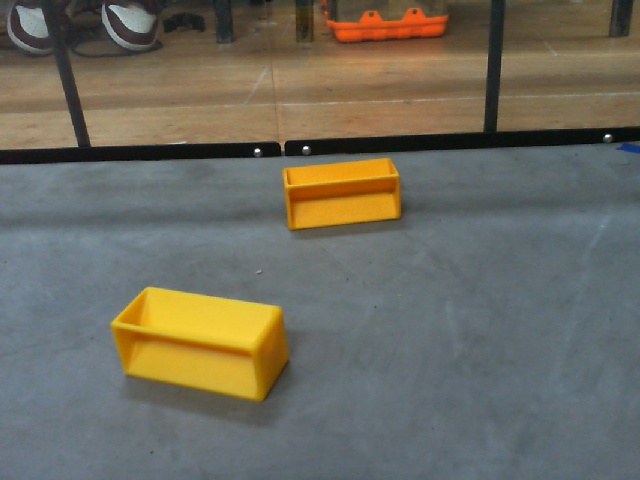YellowSample: (110, 280, 296, 409), (282, 156, 408, 234)
